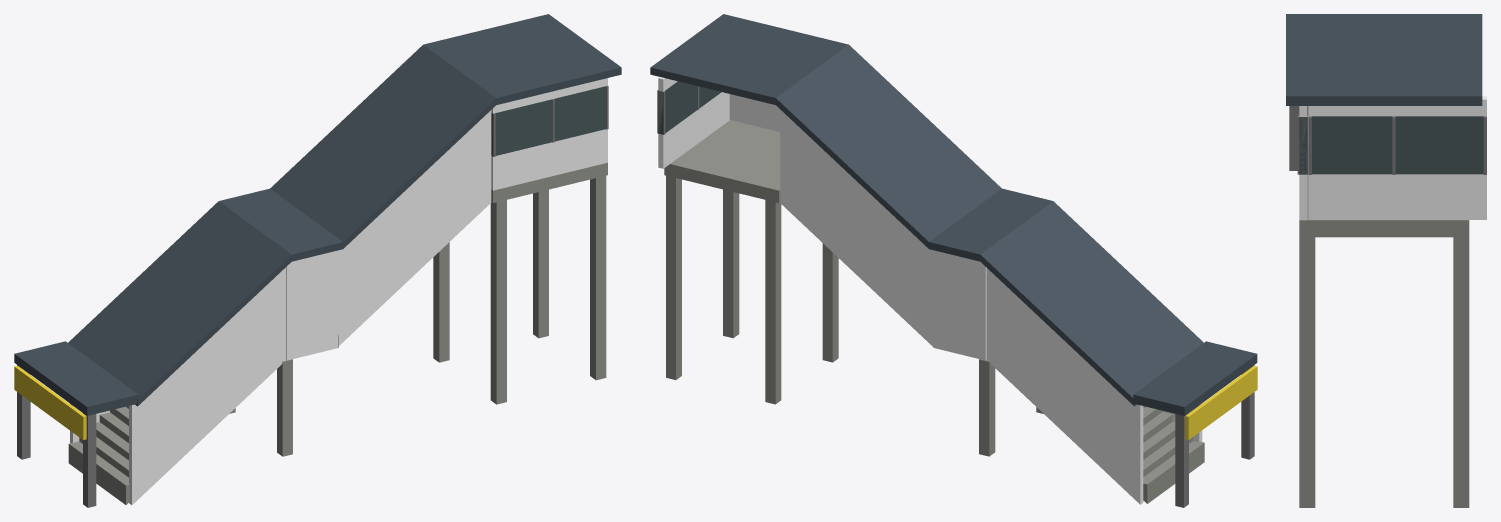
Rendered from body.fbx.
3 renders of one model, left to right at view 1: azimuth 30°, elevation 25°; view 2: azimuth 150°, elevation 25°; view 3: azimuth 270°, elevation 25°, orthographic. The views are drawn at different scales.
Visible parts, largest first — view 1: p2001.house; view 2: p2001.house; view 3: p2001.house.
Part boxes in pixels (bbox=[...]): p2001.house: bbox=[14, 14, 621, 507]; p2001.house: bbox=[650, 14, 1257, 507]; p2001.house: bbox=[1286, 14, 1486, 507].
Bounding box in the file's own units: 15.68 × 9.05 × 3.78.
